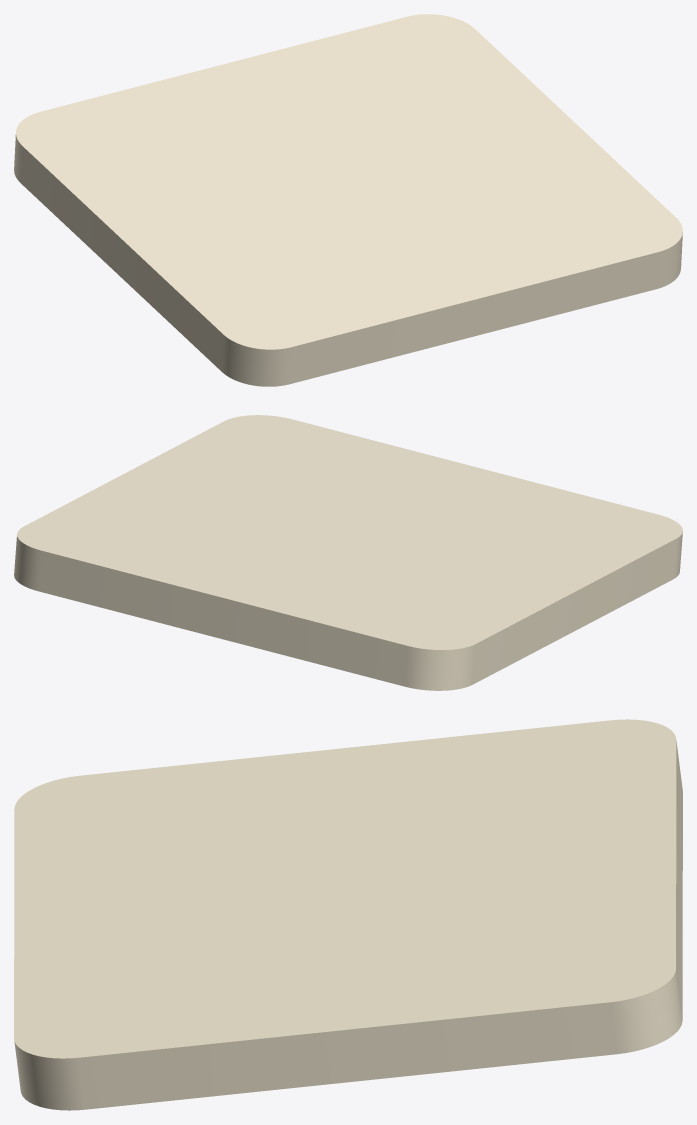
File: original-52.obj
The picture shows the model from 3 angles, top to bottom: view 1: azimuth 30°, elevation 25°; view 2: azimuth 150°, elevation 25°; view 3: azimuth 270°, elevation 25°; orthographic projection. The views are drawn at different scales.
Parts seen in each view (by area): view 1: mesh58/mesh58-geometry#mesh58-geometry; view 2: mesh58/mesh58-geometry#mesh58-geometry; view 3: mesh58/mesh58-geometry#mesh58-geometry.
Part boxes in pixels (x1=…): mesh58/mesh58-geometry#mesh58-geometry: x1=14, y1=14, x2=682, y2=386; mesh58/mesh58-geometry#mesh58-geometry: x1=14, y1=415, x2=682, y2=690; mesh58/mesh58-geometry#mesh58-geometry: x1=14, y1=719, x2=682, y2=1110.
Size of the model in its own units: 0.0956 by 0.0196 by 0.0926.
